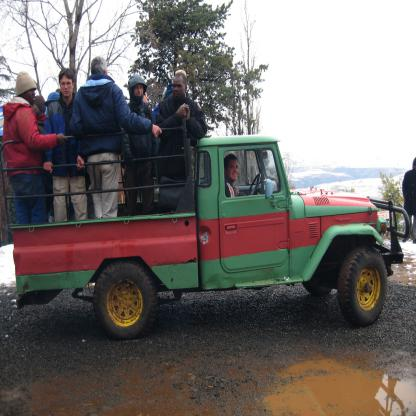Truck: (13, 120, 411, 352)
